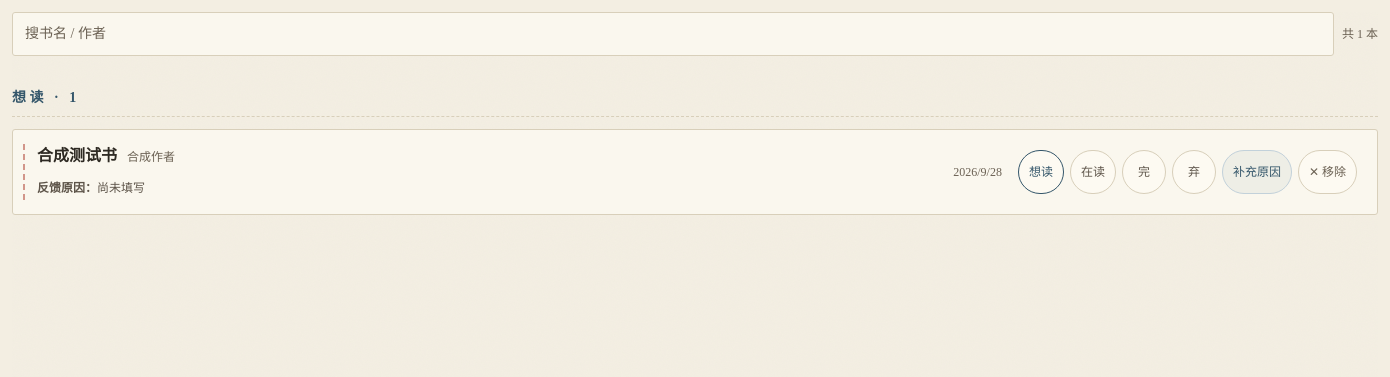
Test: 书架移除的幂等恢复 › 拒绝无关失败 status=404 code=OTHER_NOT_FOUND，保留书和草稿
Click the button with aria-label "将合成测试书移出书架" at {"x": 1327, "y": 172}, box [1298, 150, 1357, 194]
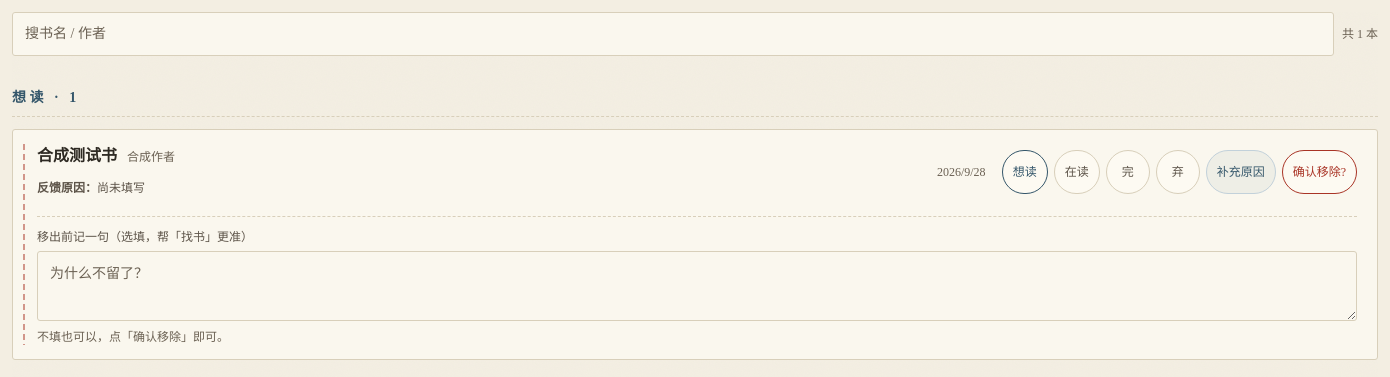
Type "保留合成原因" into the text box labelled "移出前记一句（选填，帮「找书」更准）" at {"x": 697, "y": 286}, box [37, 251, 1357, 321]
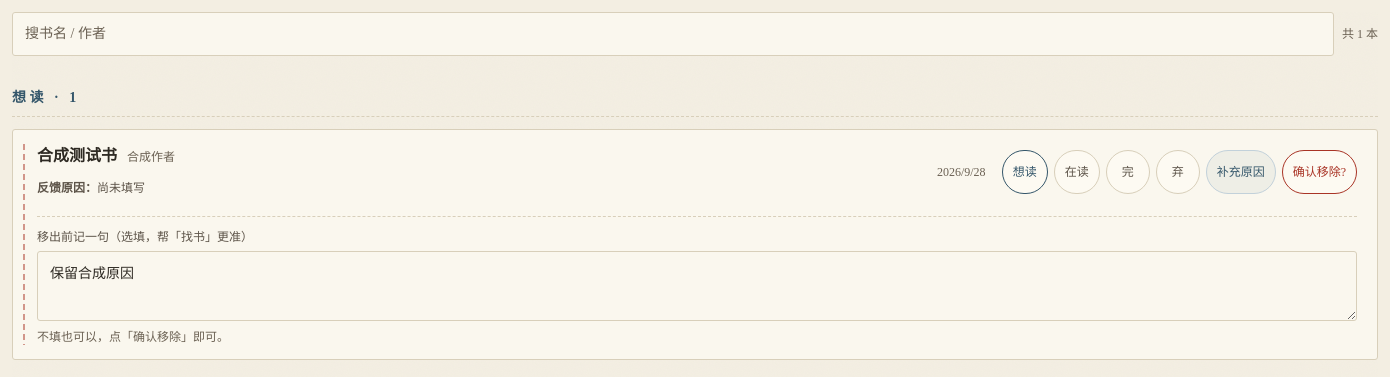
Click the button with aria-label "再次点击确认将合成测试书移出书架" at {"x": 1319, "y": 172}, box [1282, 150, 1357, 194]
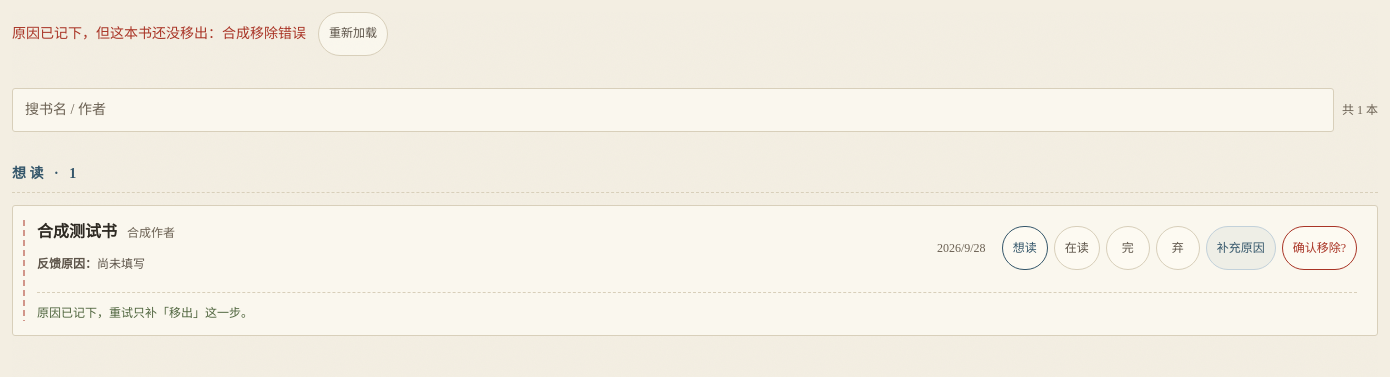
Check: the text "合成测试书" is shown, box [37, 220, 117, 244]
Check: the message shows "合成移除错误", box [12, 26, 306, 41]
Check: the text "原因已记下，重试只补「移出」这一步。" is shown, box [37, 306, 253, 320]
